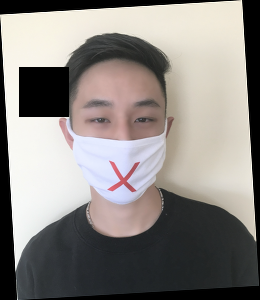with_mask: (72, 95, 169, 206)
